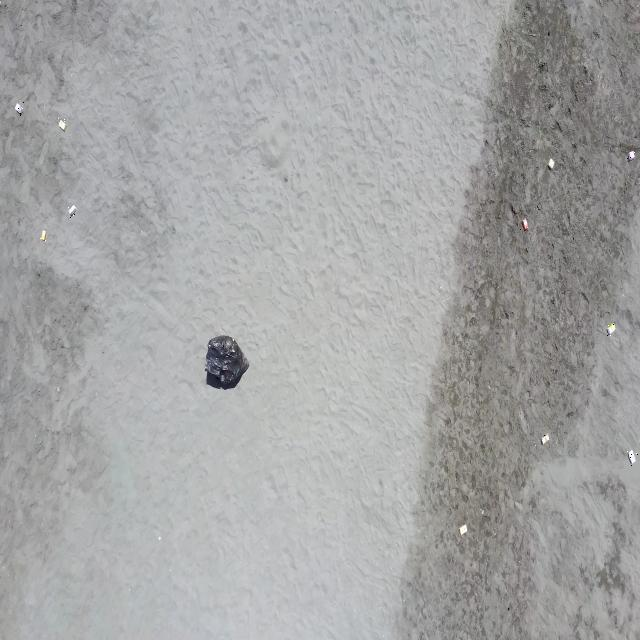retort-pouch: (626, 448, 638, 466), (13, 101, 25, 116), (627, 148, 638, 162), (57, 118, 68, 131), (606, 322, 616, 336), (68, 205, 78, 218), (546, 157, 556, 170), (40, 228, 48, 244), (459, 524, 469, 536), (520, 218, 529, 231), (539, 434, 549, 445)
